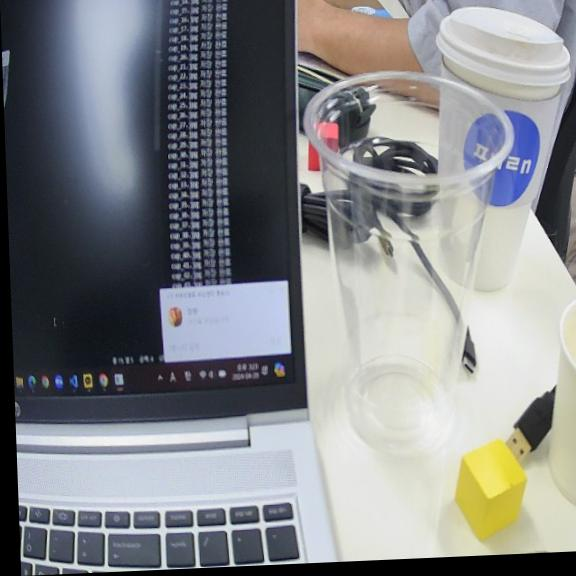Plastik: (304, 72, 515, 454)
